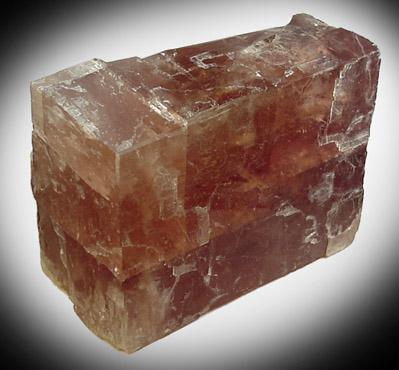calcite: (31, 14, 381, 354)
